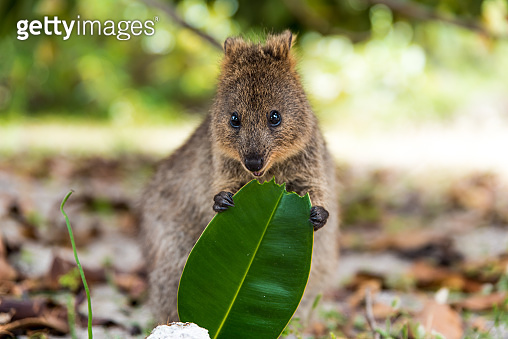quokka: (144, 34, 346, 329)
